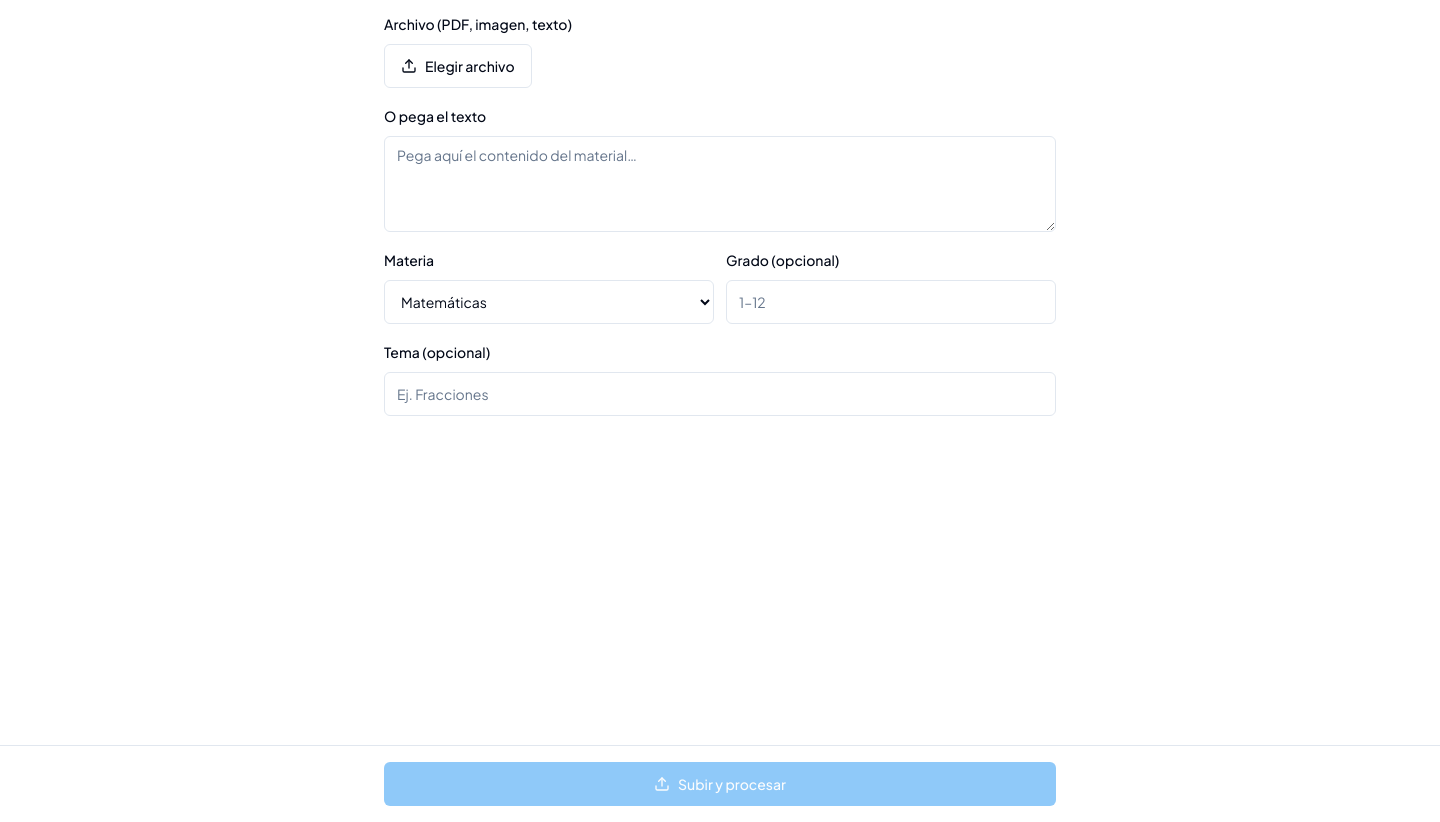
Test: TeacherUploaderForm (mobile) › disables submit until a file or pasted text is provided
Expected: the button "Subir y procesar" is disabled, x1=384 y1=762 x2=1056 y2=806
Type "Fracciones: suma y resta" into the text box labelled "O pega el texto". click: (720, 184)
box: x1=384 y1=136 x2=1056 y2=232
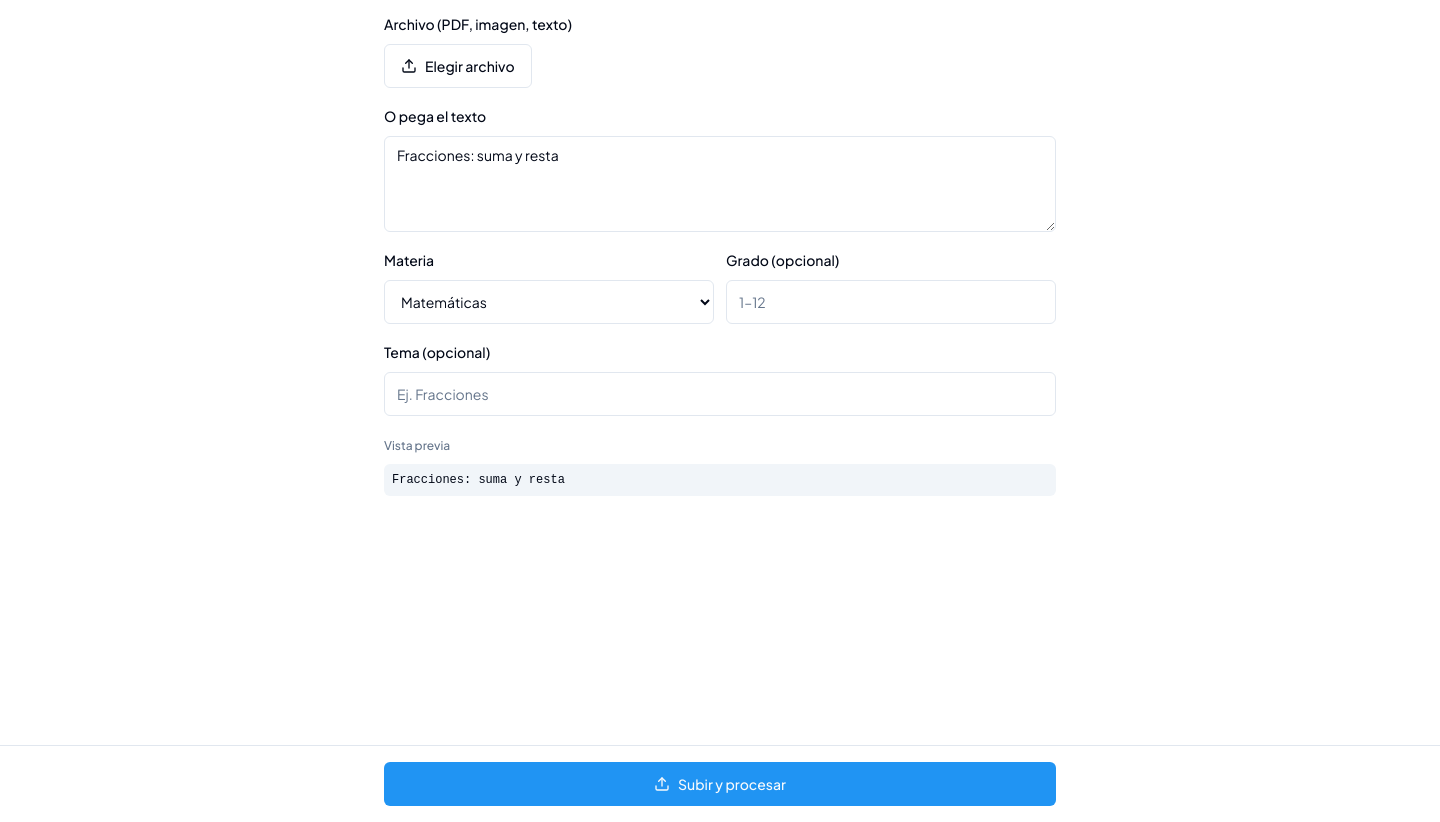
Now the button "Subir y procesar" is enabled, box x1=384 y1=762 x2=1056 y2=806
